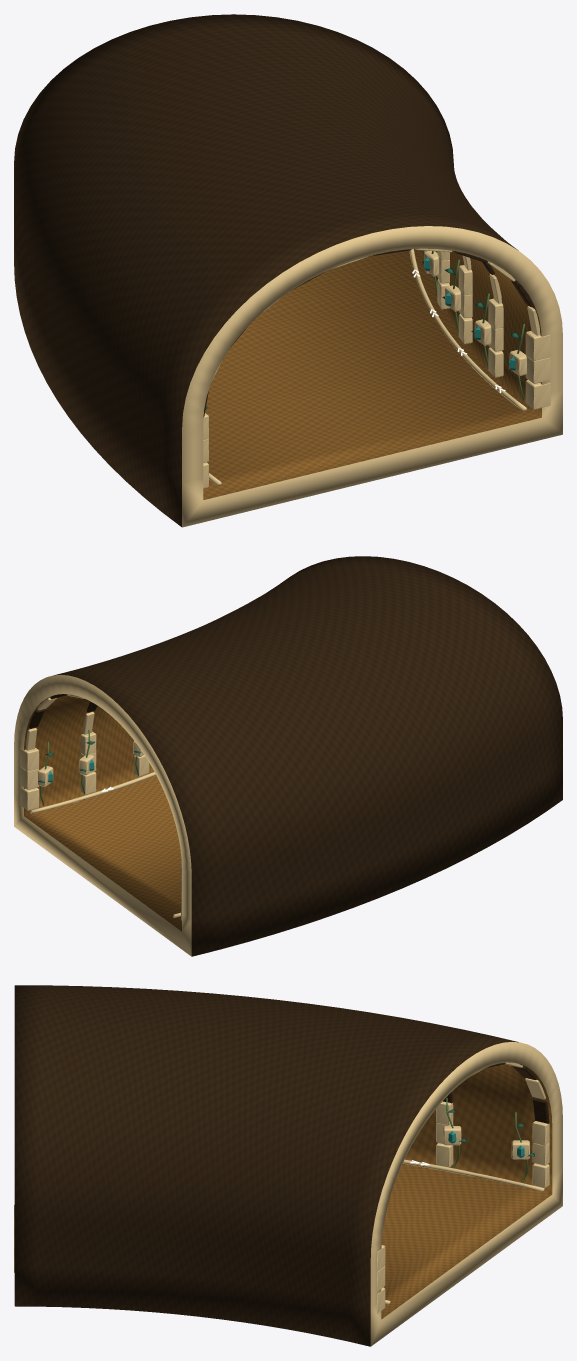
The model's file is curve_right_30_lod1.glb.
3 renders of one model, top to bottom at view 1: azimuth 30°, elevation 25°; view 2: azimuth 150°, elevation 25°; view 3: azimuth 270°, elevation 25°, orthographic. The views are drawn at different scales.
Visible parts, largest first — view 1: TunnelGeometry.001; view 2: TunnelGeometry.001; view 3: TunnelGeometry.001.
Boxes of the visible parts, x1,y1,x2,y2 form: TunnelGeometry.001: [14, 14, 562, 527]; TunnelGeometry.001: [14, 556, 562, 956]; TunnelGeometry.001: [14, 985, 562, 1346].
Bounding box in the file's own units: 19.1 × 9.52 × 21.85.
Materials: 7 (2 with a texture image).
